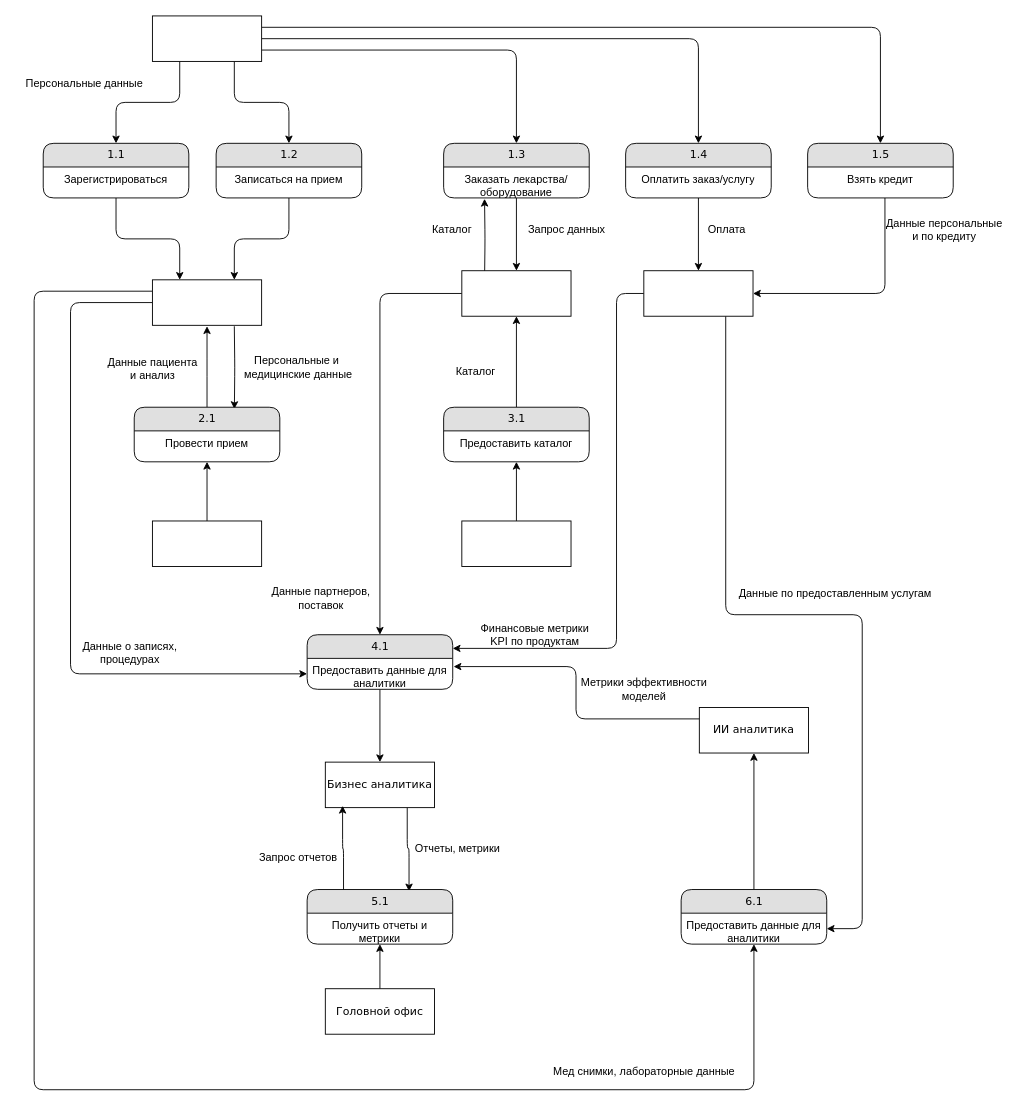
The diagram is 1027 pixels wide and 1113 high, and some of its shapes have lost their labels. Here are the shapes that lost their labels. From the top down, the box of each, then its label:
(152, 15, 262, 61): Пациент
(152, 279, 262, 325): Мед услуги
(461, 270, 571, 316): Партнерские системы
(643, 270, 753, 316): Фин услуги
(152, 520, 262, 566): Врач
(461, 520, 571, 566): Партнер (фармацевтика/оборудование)
